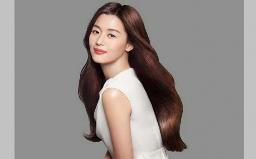face: (90, 16, 126, 64)
